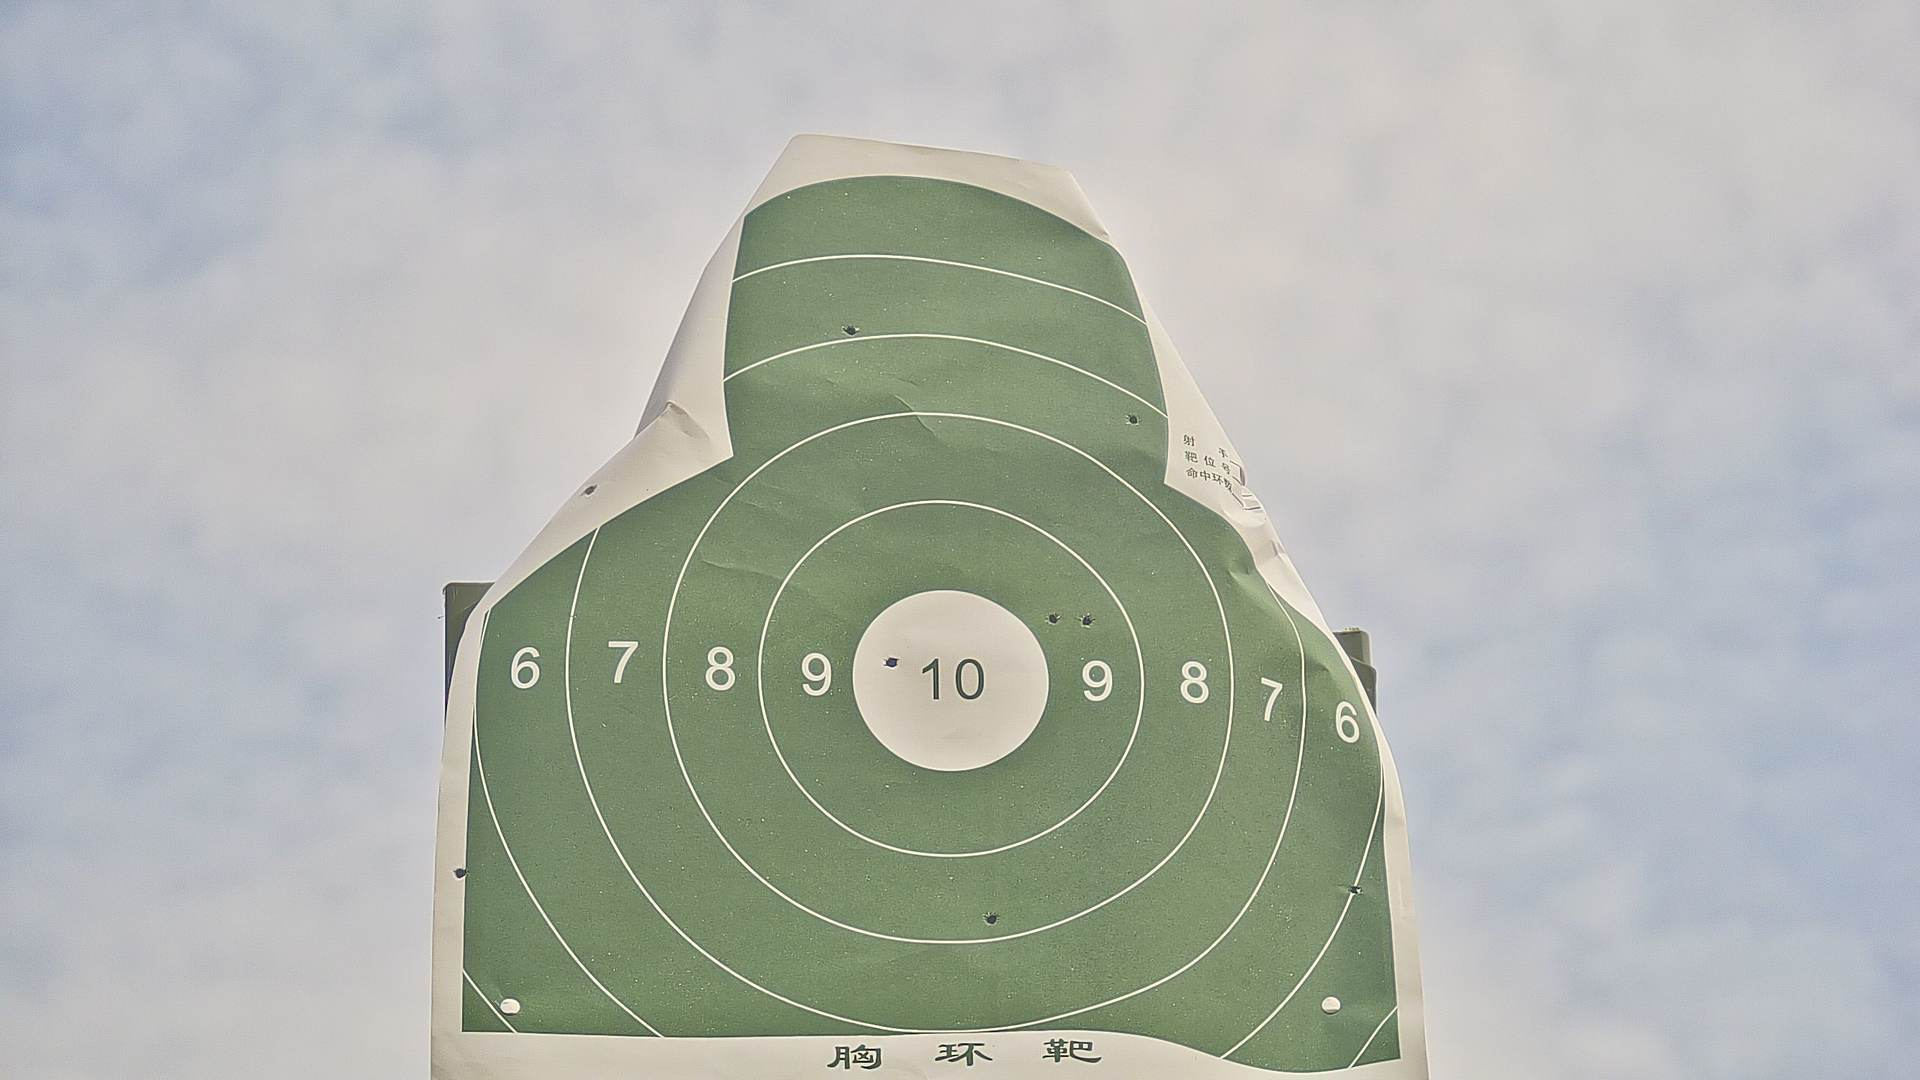hole: (582, 483, 599, 497), (843, 323, 858, 338), (451, 866, 468, 880), (885, 655, 899, 670), (984, 911, 998, 923), (1352, 884, 1364, 898), (1048, 613, 1060, 626), (1083, 615, 1093, 629), (1127, 413, 1139, 425)
kernel: (945, 680, 952, 683)
target: (455, 171, 1400, 1073)
ten: (852, 582, 1052, 773)
